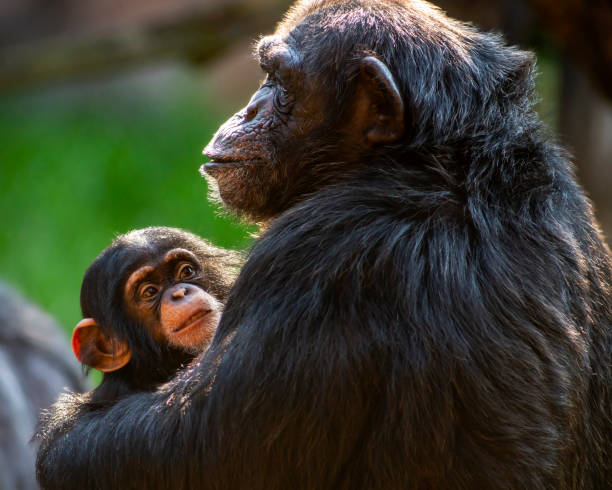chimpanzee: (181, 2, 544, 245), (66, 214, 239, 394)
